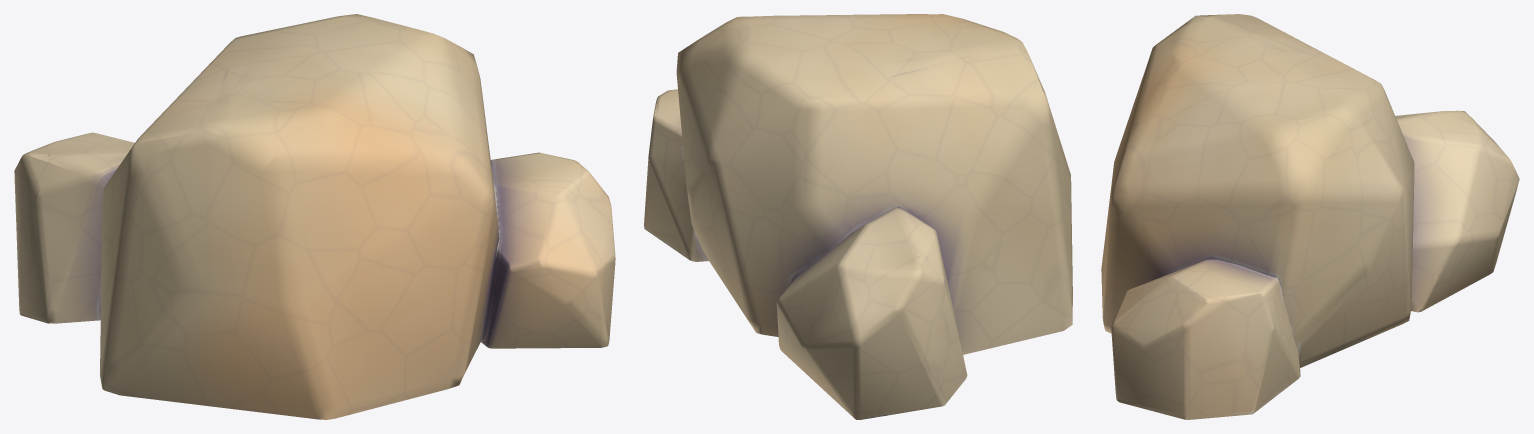
File: RocherCalcaire_A.fbx
The picture shows the model from 3 angles, left to right: view 1: azimuth 30°, elevation 25°; view 2: azimuth 150°, elevation 25°; view 3: azimuth 270°, elevation 25°; orthographic projection. The views are drawn at different scales.
Visible parts, largest first — view 1: RocherCalcaire_A; view 2: RocherCalcaire_A; view 3: RocherCalcaire_A.
Boxes of the visible parts, box(x1,y1,x2,y2) form: RocherCalcaire_A: box(14, 14, 615, 419); RocherCalcaire_A: box(644, 14, 1072, 419); RocherCalcaire_A: box(1101, 14, 1519, 419).
Size of the model in its own units: 931 by 544 by 814.
Materials: 1 (1 with a texture image).
